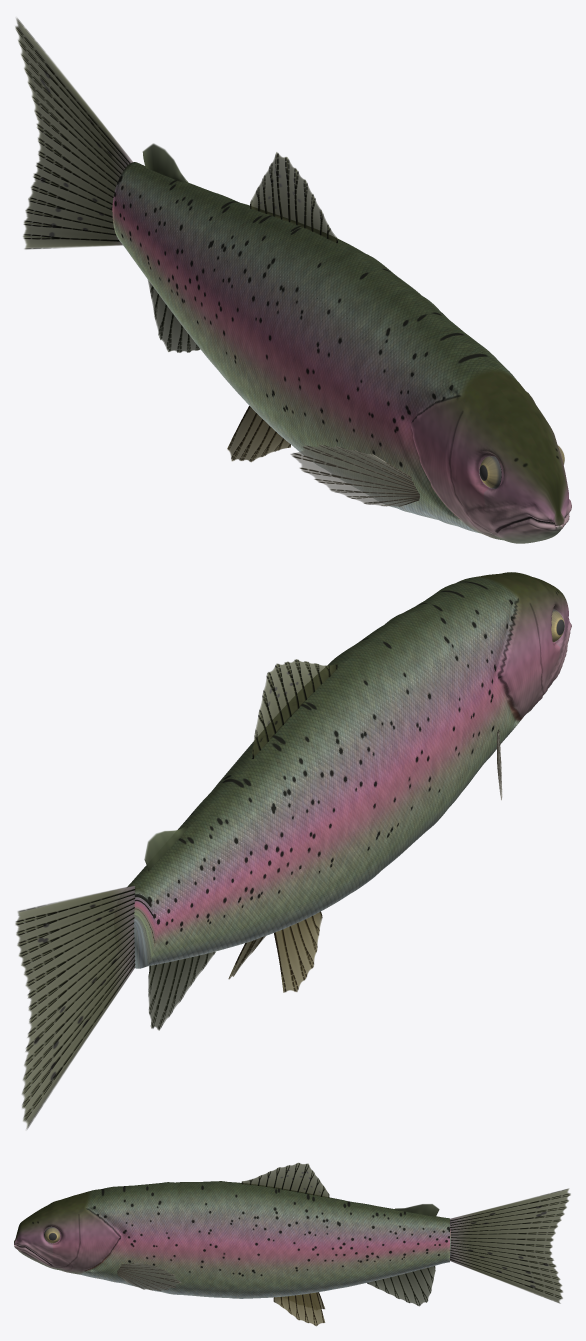
File: pstrag_teczowy.glb
3 views of the same model, one above another, from view 1: azimuth 30°, elevation 25°; view 2: azimuth 150°, elevation 25°; view 3: azimuth 270°, elevation 25° (orthographic). The views are drawn at different scales.
Parts seen in each view (by area): view 1: Body, FinCaudal, FinPectoral, FinDorsal1, FinPelvic, FinAnal, FinAdipose; view 2: Body, FinCaudal, FinDorsal1, FinPelvic, FinAnal, FinAdipose; view 3: Body, FinCaudal, FinDorsal1, FinAnal, FinPectoral, FinPelvic, FinAdipose.
Boxes of the visible parts, x1,y1,x2,y2 form: Body: [112, 162, 571, 543]; FinCaudal: [15, 18, 132, 249]; FinPectoral: [290, 445, 419, 506]; FinDorsal1: [250, 152, 337, 243]; FinPelvic: [227, 406, 290, 462]; FinAnal: [148, 280, 200, 352]; FinAdipose: [142, 143, 188, 183]; Body: [127, 572, 571, 968]; FinCaudal: [15, 885, 135, 1129]; FinDorsal1: [252, 659, 337, 758]; FinPelvic: [228, 911, 322, 992]; FinAnal: [148, 951, 215, 1030]; FinAdipose: [144, 825, 188, 871]; Body: [14, 1181, 450, 1298]; FinCaudal: [450, 1188, 570, 1303]; FinDorsal1: [241, 1162, 329, 1197]; FinAnal: [367, 1266, 435, 1306]; FinPectoral: [117, 1262, 181, 1291]; FinPelvic: [273, 1292, 325, 1326]; FinAdipose: [394, 1204, 439, 1216].
Bounding box in the file's own units: 0.2242 × 0.3114 × 1.
9 materials, 8 textured.
